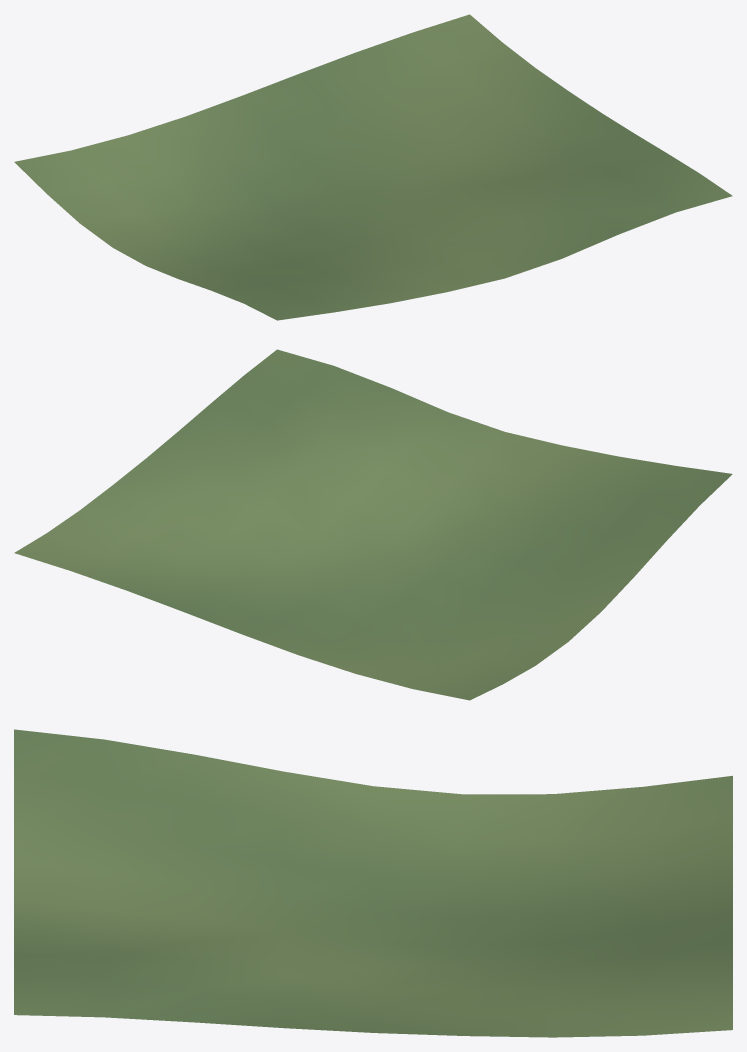
The model's file is Terrain-2-2-1.glb.
3 renders of one model, top to bottom at view 1: azimuth 30°, elevation 25°; view 2: azimuth 150°, elevation 25°; view 3: azimuth 270°, elevation 25°, orthographic. The views are drawn at different scales.
Parts seen in each view (by area): view 1: Terrain-2-2-1; view 2: Terrain-2-2-1; view 3: Terrain-2-2-1.
Boxes of the visible parts, bbox=[...] form: Terrain-2-2-1: bbox=[14, 14, 732, 320]; Terrain-2-2-1: bbox=[14, 349, 732, 700]; Terrain-2-2-1: bbox=[14, 729, 732, 1037].
Bounding box in the file's own units: 6 × 0.8912 × 6.
